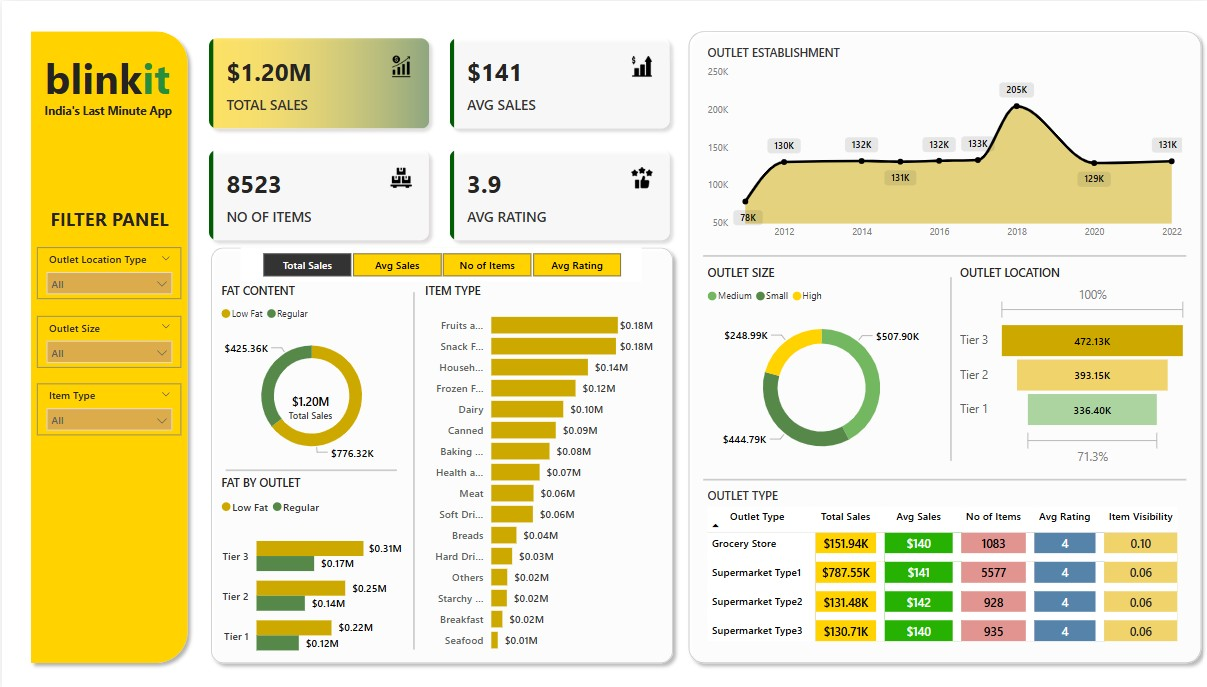

What the dashboard file says about the page in this screenshot:
{"tool":"powerbi","page":{"name":"Page 1","canvas":[1400,800],"ordinal":0},"visuals":[{"type":"shape","box":[24,25.5,199.6,750.4],"z":0},{"type":"textbox","box":[30.8,50.9,183.6,77.7],"z":1000},{"type":"textbox","box":[38.9,112.6,167.6,30.8],"z":2000},{"type":"cardVisual","fields":{"Data":["BlinkIT Grocery Data.Total Sales","BlinkIT Grocery Data.Avg Sales","BlinkIT Grocery Data.No of Items","BlinkIT Grocery Data.Avg Rating"]},"box":[223.9,25.5,569.7,269.4],"z":3000},{"type":"shape","box":[233.2,276.1,553.6,500],"z":4000},{"type":"donutChart","title":"FAT CONTENT","fields":{"Y":["BlinkIT Grocery Data.Total Sales"],"Category":["BlinkIT Grocery Data.Item Fat Content"]},"box":[249.3,325.7,219.8,218.5],"z":5000},{"type":"slicer","fields":{"Values":["Metrics.Metrics"]},"box":[276.1,285.5,465.1,40.2],"z":6000},{"type":"cardVisual","fields":{"Data":["BlinkIT Grocery Data.Total Sales"]},"box":[313.7,437,89.8,67],"z":7000},{"type":"clusteredBarChart","title":"FAT BY OUTLET","fields":{"Y":["BlinkIT Grocery Data.Total Sales"],"Category":["BlinkIT Grocery Data.Outlet Location Type"],"Series":["BlinkIT Grocery Data.Item Fat Content"]},"box":[249.3,549.6,219.8,229.2],"z":8000},{"type":"shape","box":[260.1,533.5,198.4,21.4],"z":9000},{"type":"shape","box":[469.2,337.8,16.1,414.2],"z":10000},{"type":"barChart","title":"ITEM TYPE","fields":{"Y":["BlinkIT Grocery Data.Total Sales"],"Category":["BlinkIT Grocery Data.Item Type"]},"box":[485.3,325.7,274.8,439.7],"z":11000},{"type":"shape","box":[786.9,25.5,612.6,750.7],"z":12000},{"type":"lineChart","title":"OUTLET ESTABLISHMENT","fields":{"Category":["BlinkIT Grocery Data.Outlet Establishment Year"],"Y":["Sum(BlinkIT Grocery Data.Sales)"]},"box":[813.7,50.9,560.3,234.6],"z":13000},{"type":"shape","box":[813.7,285.5,560.3,20.1],"z":14000},{"type":"donutChart","title":"OUTLET SIZE","fields":{"Y":["BlinkIT Grocery Data.Total Sales"],"Category":["BlinkIT Grocery Data.Outlet Size"]},"box":[813.7,305.6,274.8,239.9],"z":15000},{"type":"shape","box":[1093.8,320.4,12.1,213.1],"z":16000},{"type":"funnel","title":"OUTLET LOCATION","fields":{"Y":["Sum(BlinkIT Grocery Data.Sales)"],"Category":["BlinkIT Grocery Data.Outlet Location Type"]},"box":[1105.9,305.6,273.5,238.6],"z":17000},{"type":"shape","box":[813.7,544.2,560.3,20.1],"z":18000},{"type":"pivotTable","title":"OUTLET TYPE","fields":{"Rows":["BlinkIT Grocery Data.Outlet Type"],"Values":["BlinkIT Grocery Data.Total Sales","BlinkIT Grocery Data.Avg Sales","BlinkIT Grocery Data.No of Items","BlinkIT Grocery Data.Avg Rating","Avg(BlinkIT Grocery Data.Item Visibility)"]},"box":[813.7,564.3,560.3,201.1],"z":19000},{"type":"slicer","fields":{"Values":["BlinkIT Grocery Data.Outlet Location Type"]},"box":[40.2,285.5,167.6,60.3],"z":19001},{"type":"slicer","fields":{"Values":["BlinkIT Grocery Data.Outlet Size"]},"box":[40.2,364.6,167.6,60.3],"z":19002},{"type":"slicer","fields":{"Values":["BlinkIT Grocery Data.Item Type"]},"box":[40.2,443.7,167.6,60.3],"z":19003},{"type":"textbox","box":[44.2,233.2,159.5,42.9],"z":19004}]}

Visuals, with their boxes in screenshot pixels (x1, y1, x2, y2), scaled from the page's 1400x800 canvas onto the 1207x687 screenshot:
shape: [21, 22, 193, 666]
textbox: [27, 44, 185, 110]
textbox: [34, 97, 178, 123]
cardVisual - BlinkIT Grocery Data.Total Sales x BlinkIT Grocery Data.Avg Sales: [193, 22, 684, 253]
shape: [201, 237, 678, 666]
"FAT CONTENT" donutChart: [215, 280, 404, 467]
slicer - Metrics.Metrics: [238, 245, 639, 280]
cardVisual - BlinkIT Grocery Data.Total Sales: [270, 375, 348, 433]
"FAT BY OUTLET" clusteredBarChart: [215, 472, 404, 669]
shape: [224, 458, 395, 477]
shape: [405, 290, 418, 646]
"ITEM TYPE" barChart: [418, 280, 655, 657]
shape: [678, 22, 1206, 667]
"OUTLET ESTABLISHMENT" lineChart: [702, 44, 1185, 245]
shape: [702, 245, 1185, 262]
"OUTLET SIZE" donutChart: [702, 262, 938, 468]
shape: [943, 275, 953, 458]
"OUTLET LOCATION" funnel: [953, 262, 1189, 467]
shape: [702, 467, 1185, 485]
"OUTLET TYPE" pivotTable: [702, 485, 1185, 657]
slicer - BlinkIT Grocery Data.Outlet Location Type: [35, 245, 179, 297]
slicer - BlinkIT Grocery Data.Outlet Size: [35, 313, 179, 365]
slicer - BlinkIT Grocery Data.Item Type: [35, 381, 179, 433]
textbox: [38, 200, 176, 237]
